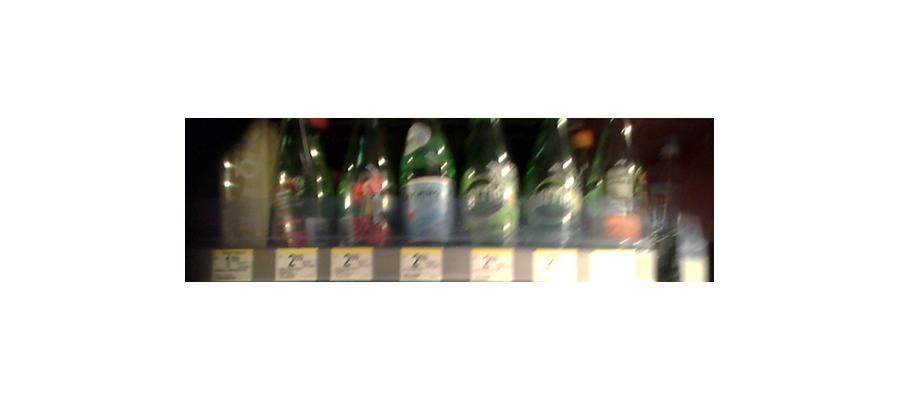bottle: (586, 113, 647, 246), (457, 114, 516, 245), (334, 115, 393, 246), (271, 115, 328, 249), (521, 116, 581, 240), (397, 119, 454, 243), (216, 118, 266, 245)
